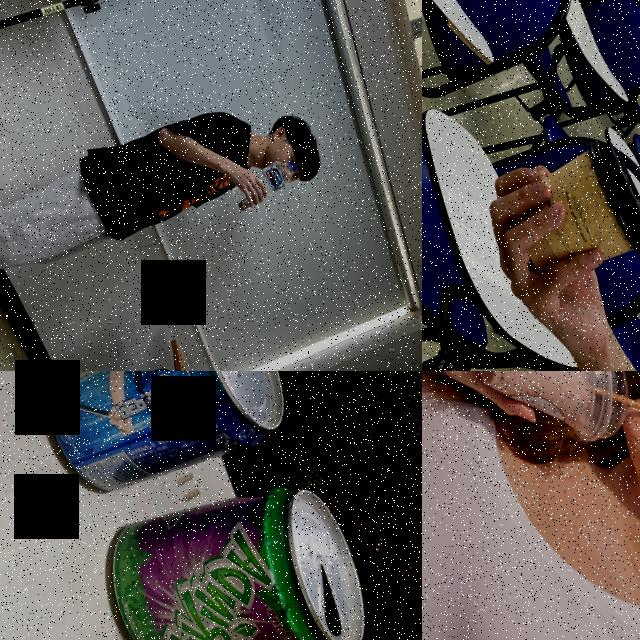bottle: (225, 154, 302, 214)
can: (77, 442, 390, 640), (11, 371, 306, 522)
cup: (492, 128, 640, 294), (453, 371, 640, 477)
